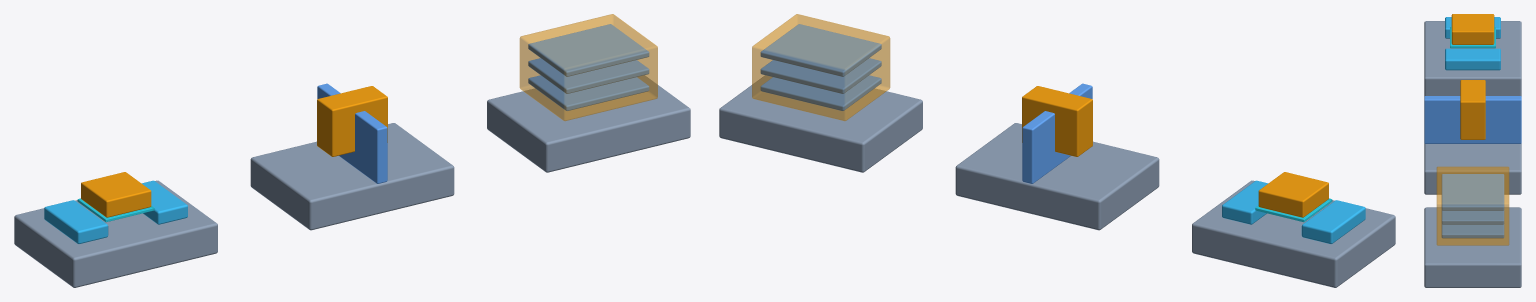
Rendered from transistors.glb.
3 renders of one model, left to right at view 1: azimuth 30°, elevation 25°; view 2: azimuth 150°, elevation 25°; view 3: azimuth 270°, elevation 25°, orthographic. The views are drawn at different scales.
Parts seen in each view (by area): view 1: sub.001, sub.002, gaa_gate, sub, sheet2, gate.001, fin, gate, sheet0, sheet1, sd_l, sd_r; view 2: sub.001, sub.002, gaa_gate, sub, sheet2, gate.001, fin, gate, sheet0, sheet1, sd_l, sd_r; view 3: sub.002, gaa_gate, sub, sub.001, fin, sheet2, gate.001, gate, sd_r, sheet1, sheet0, sd_l (+1 smaller).
Boxes of the visible parts, x1,y1,x2,y2 form: sub.001: [250, 123, 454, 230]; sub.002: [487, 75, 690, 172]; gaa_gate: [519, 14, 657, 120]; sub: [14, 180, 217, 287]; sheet2: [528, 24, 649, 76]; gate.001: [317, 86, 387, 156]; fin: [317, 83, 387, 183]; gate: [81, 172, 151, 217]; sheet0: [528, 75, 649, 110]; sheet1: [528, 58, 649, 93]; sd_l: [44, 200, 108, 243]; sd_r: [142, 180, 187, 224]; sub.001: [955, 123, 1159, 230]; sub.002: [719, 75, 922, 172]; gaa_gate: [752, 14, 890, 120]; sub: [1192, 180, 1395, 287]; sheet2: [760, 24, 881, 76]; gate.001: [1022, 86, 1092, 156]; fin: [1022, 83, 1092, 183]; gate: [1258, 172, 1328, 217]; sheet0: [760, 75, 881, 110]; sheet1: [760, 58, 881, 93]; sd_l: [1301, 200, 1365, 243]; sd_r: [1222, 180, 1267, 224]; sub.002: [1424, 207, 1521, 287]; gaa_gate: [1436, 166, 1509, 245]; sub: [1424, 21, 1521, 95]; sub.001: [1424, 143, 1521, 194]; fin: [1424, 96, 1521, 143]; sheet2: [1441, 174, 1504, 210]; gate.001: [1460, 80, 1485, 139]; gate: [1451, 14, 1494, 44]; sd_r: [1445, 48, 1500, 70]; sheet1: [1441, 210, 1504, 224]; sheet0: [1441, 224, 1504, 238]; sd_l: [1445, 17, 1500, 38].
Size of the model in its own units: 6.8 by 0.99 by 1.15.
